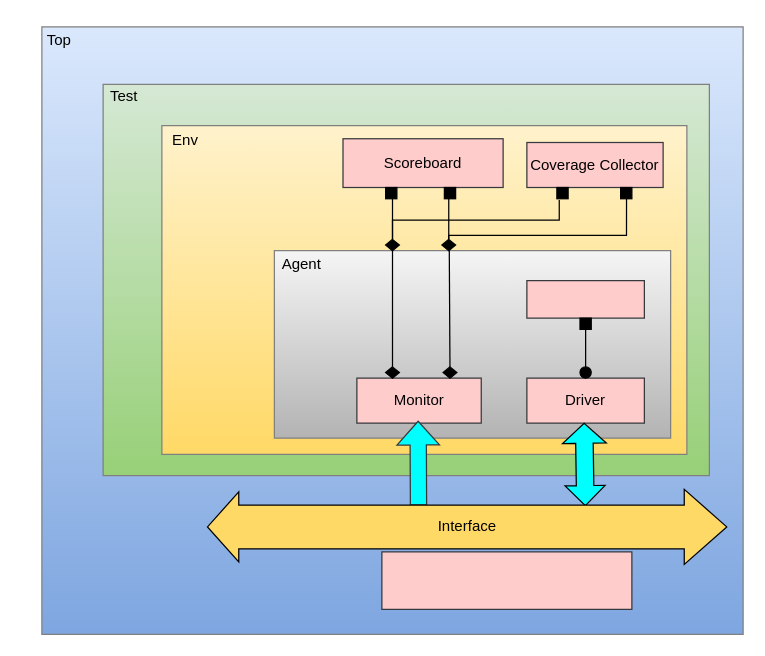
Some shapes in this 765 by 656 pixel diagram are drawn without their labels. Each missing label, with the box of its shape:
DUT: (381, 551, 632, 609)
Sequencer: (526, 279, 644, 318)
